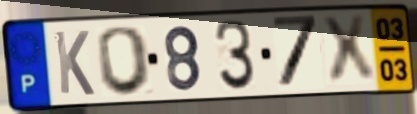3: (212, 18, 258, 93)
7: (270, 13, 322, 93)
8: (162, 23, 204, 94)
K: (52, 29, 97, 98)
O: (95, 24, 155, 98)
X: (318, 13, 379, 89)
